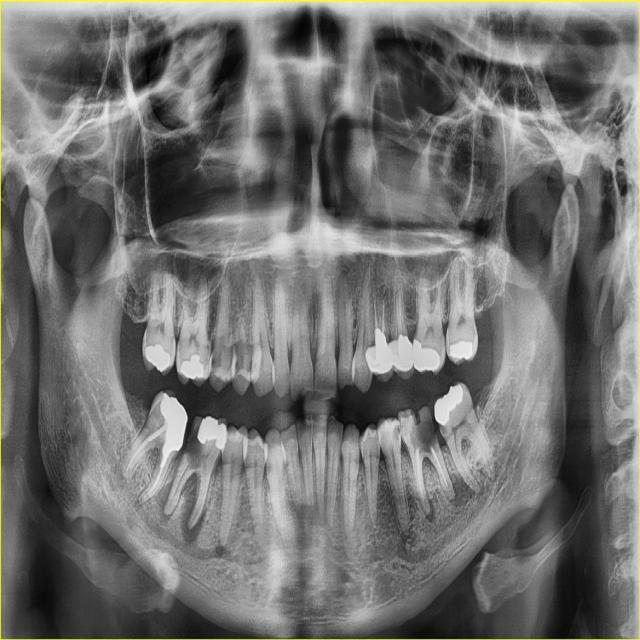Caries: (407, 408, 438, 454), (184, 414, 209, 468), (209, 348, 223, 375), (437, 421, 447, 437), (233, 354, 240, 372), (395, 425, 403, 438)
Crown: (389, 335, 415, 375), (366, 345, 393, 381)
Filling: (159, 394, 187, 458), (434, 384, 463, 425), (198, 417, 227, 449), (412, 338, 440, 371), (179, 352, 209, 379), (145, 343, 170, 372), (450, 341, 473, 358), (375, 328, 386, 345)
Periapical lesion: (180, 475, 206, 544), (446, 476, 474, 506), (159, 482, 173, 525), (134, 485, 150, 509), (421, 496, 435, 522), (401, 525, 418, 546), (487, 467, 498, 482), (215, 542, 226, 554), (477, 485, 485, 496)
Root Canal Treatment: (126, 422, 166, 472), (139, 468, 164, 499), (431, 444, 448, 489), (415, 445, 424, 502), (372, 290, 379, 329), (396, 295, 400, 331), (399, 288, 402, 331), (382, 301, 384, 335)
